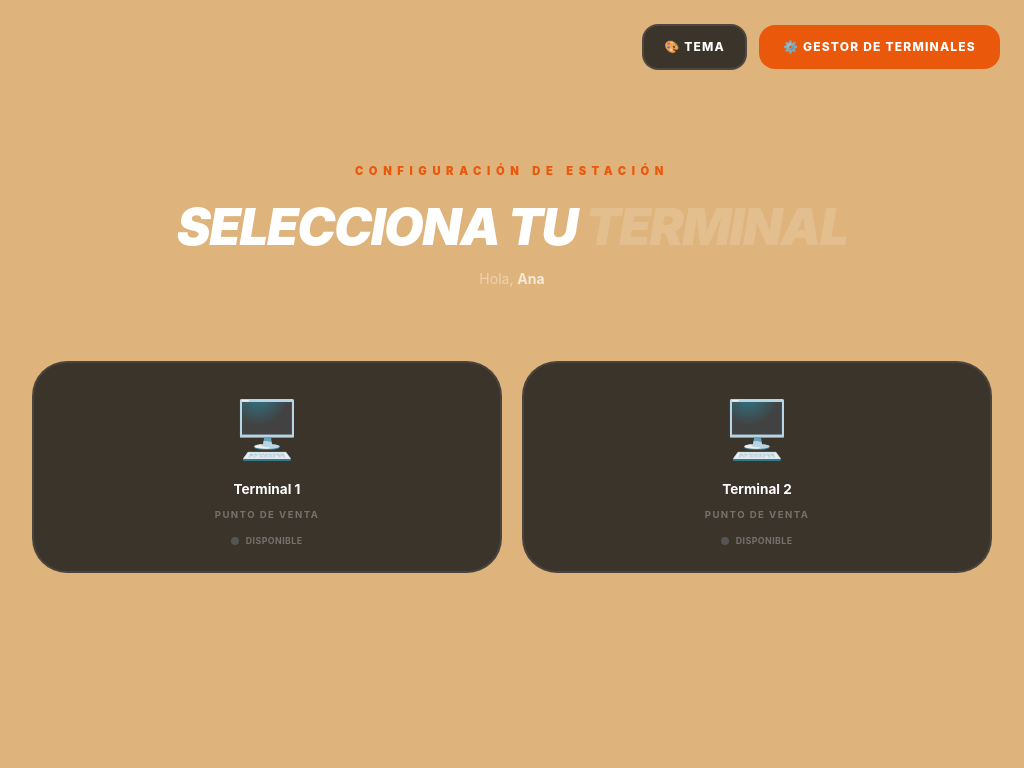
BUG-05 — handleSave propaga el error real del backend › muestra el toast de éxito cuando el guardado funciona
Click the button "⚙️ Gestor de Terminales": point(880, 47) 759,25 -> 1000,69
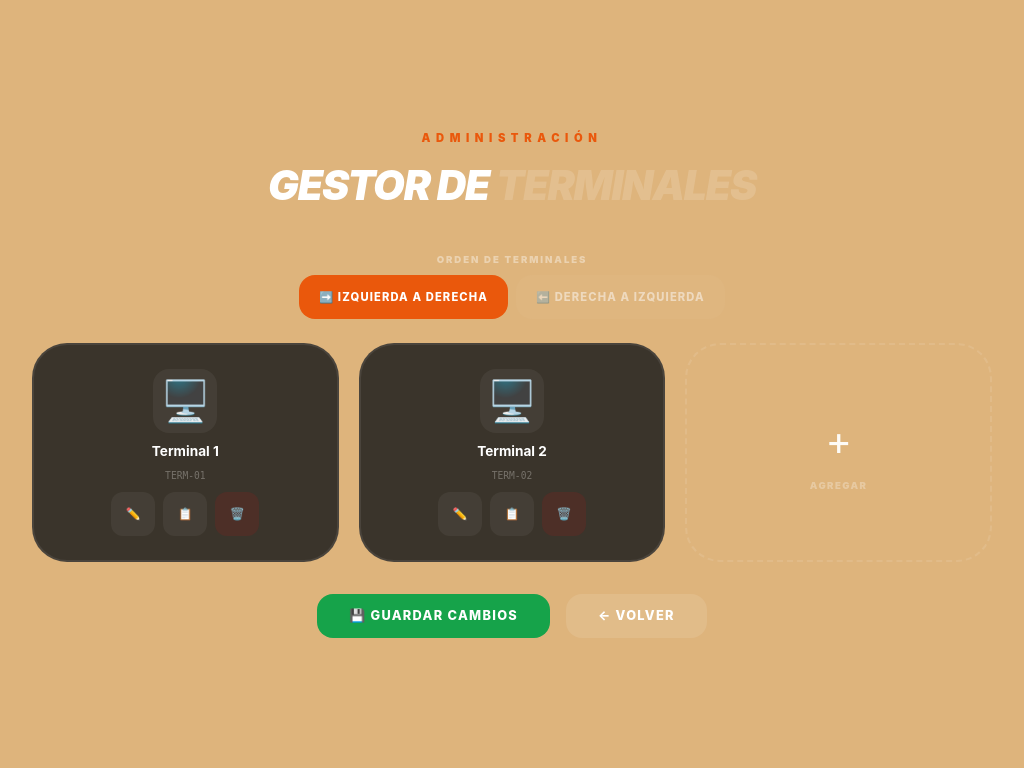
Expected: the button with test id "orden-izq-der" is shown, 299,275 -> 508,319
Click the button "💾 Guardar cambios": point(434, 616) 317,594 -> 550,638
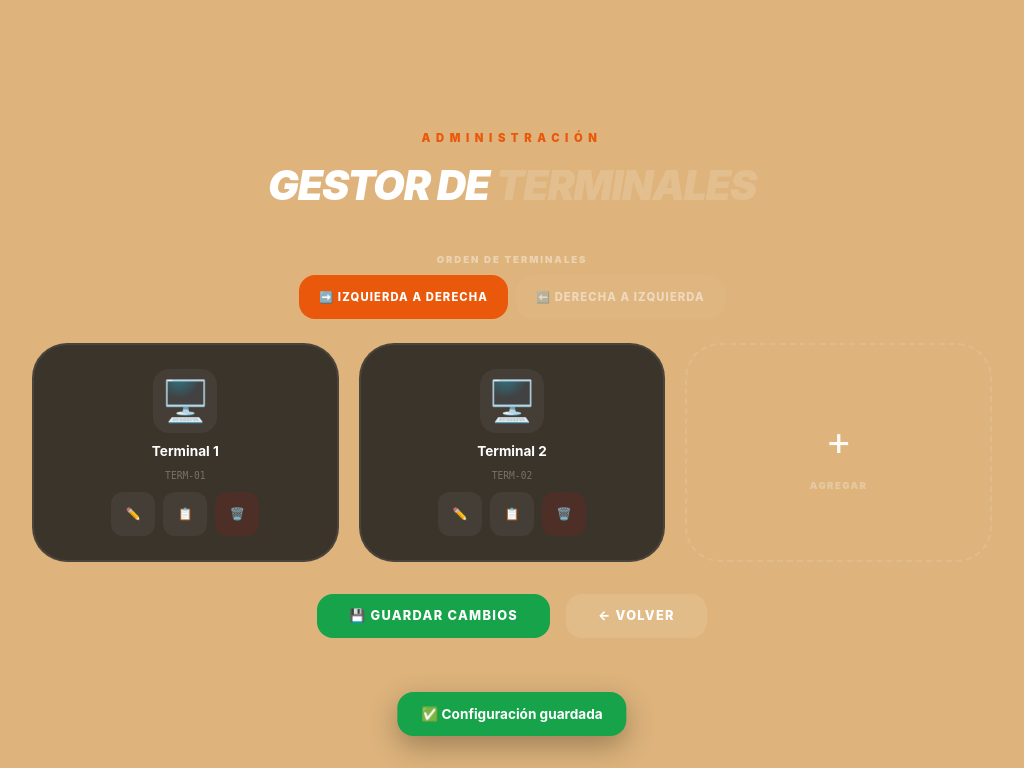
Expected: the text "✅ Configuración guardada" is shown, 397,692 -> 627,736
